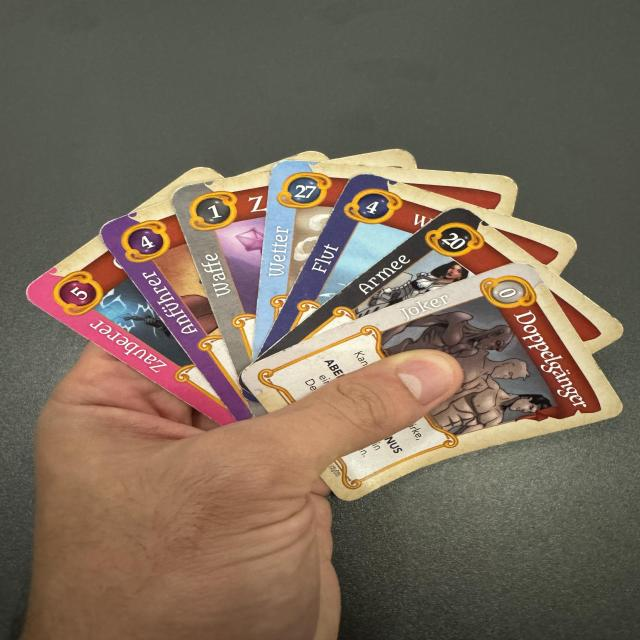Doppelganger: (237, 260, 629, 506)
Elemental Enchantress: (19, 236, 237, 427)
Knights: (257, 202, 535, 358)
Magic Wand: (167, 170, 268, 371)
Smoke: (254, 159, 357, 360)
Warlord: (94, 201, 252, 420)
Water Elemental: (258, 170, 456, 353)
